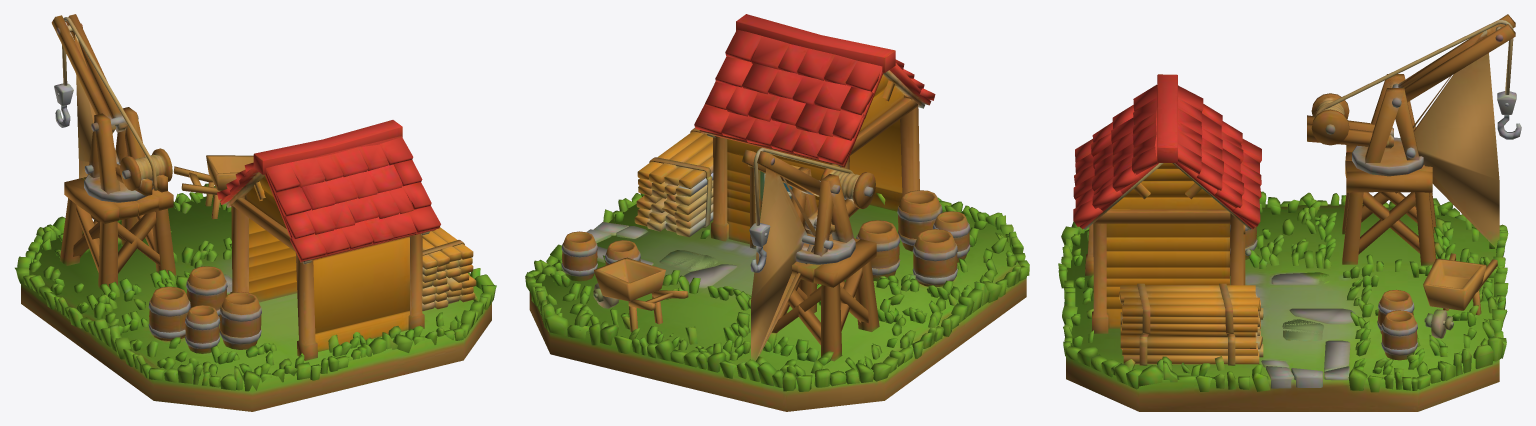
The model's file is broen.glb.
The picture shows the model from 3 angles, left to right: view 1: azimuth 30°, elevation 25°; view 2: azimuth 150°, elevation 25°; view 3: azimuth 270°, elevation 25°; orthographic projection. The views are drawn at different scales.
Parts seen in each view (by area): view 1: tripo_node_5bf13deb-c933-4ef0-8bc9-42a05da14670; view 2: tripo_node_5bf13deb-c933-4ef0-8bc9-42a05da14670; view 3: tripo_node_5bf13deb-c933-4ef0-8bc9-42a05da14670.
Part boxes in pixels (bbox=[...]): tripo_node_5bf13deb-c933-4ef0-8bc9-42a05da14670: bbox=[15, 14, 496, 411]; tripo_node_5bf13deb-c933-4ef0-8bc9-42a05da14670: bbox=[525, 14, 1029, 411]; tripo_node_5bf13deb-c933-4ef0-8bc9-42a05da14670: bbox=[1058, 14, 1521, 411].
Size of the model in its own units: 0.894 by 0.5933 by 0.9604.
1 material, 1 textured.
